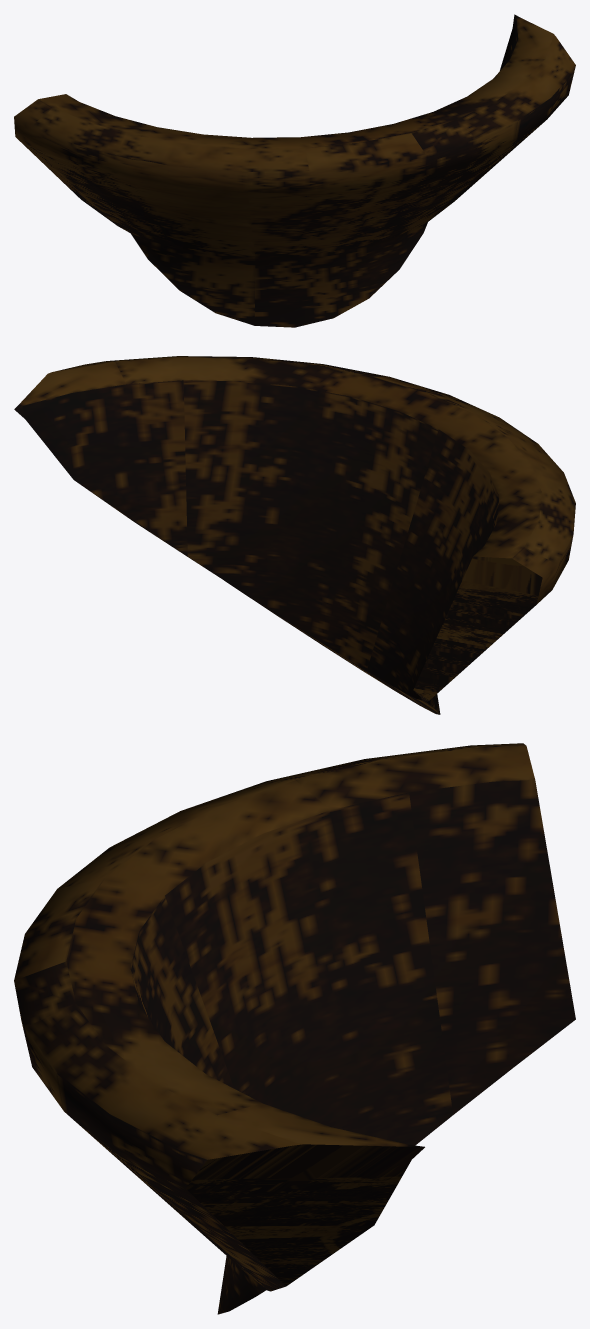
Rendered from PoteryPiece11.fbx.
3 views of the same model, one above another, from view 1: azimuth 30°, elevation 25°; view 2: azimuth 150°, elevation 25°; view 3: azimuth 270°, elevation 25° (orthographic). The views are drawn at different scales.
Visible parts, largest first — view 1: Cylinder_cell.010; view 2: Cylinder_cell.010; view 3: Cylinder_cell.010.
Boxes of the visible parts, x1,y1,x2,y2 form: Cylinder_cell.010: (14, 14, 575, 327); Cylinder_cell.010: (14, 356, 575, 714); Cylinder_cell.010: (14, 743, 575, 1314).
Bounding box in the file's own units: 188 × 80.15 × 106.
